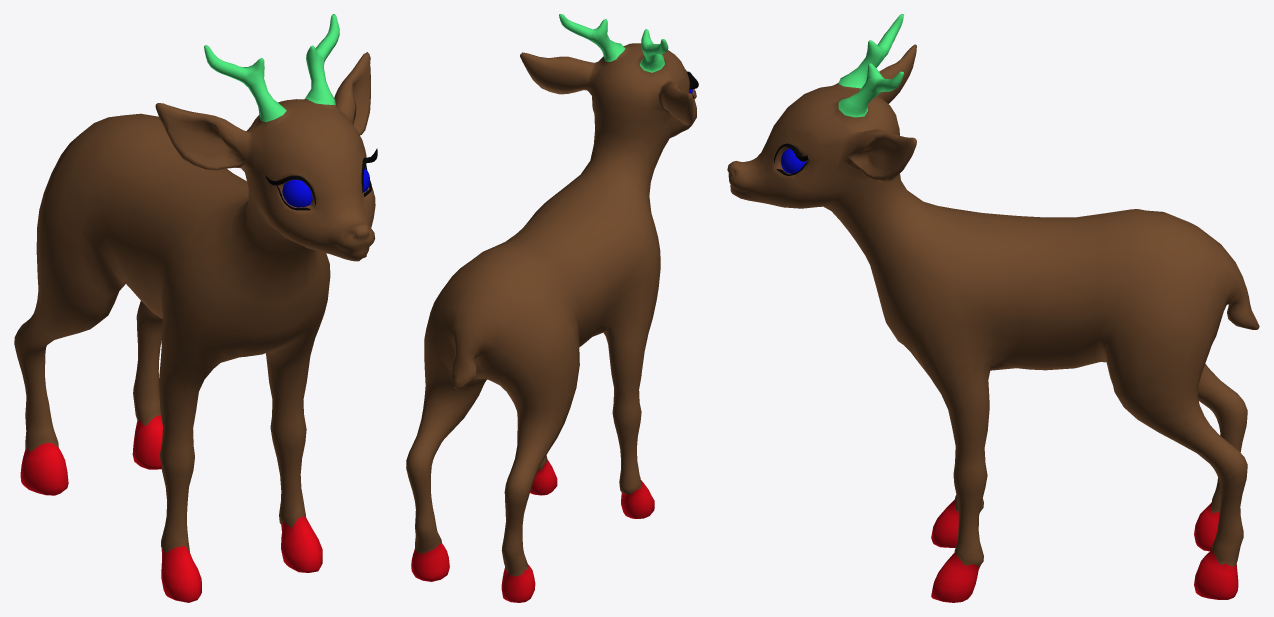
Rendered from Raindeer.fbx.
3 renders of one model, left to right at view 1: azimuth 30°, elevation 25°; view 2: azimuth 150°, elevation 25°; view 3: azimuth 270°, elevation 25°, orthographic. The views are drawn at different scales.
Parts seen in each view (by area): view 1: LP_Deer, LP_Eyeball, LP_Eyelash; view 2: LP_Deer; view 3: LP_Deer.
Boxes of the visible parts, box(x1,y1,x2,y2) form: LP_Deer: box(14, 14, 375, 602); LP_Eyeball: box(282, 168, 369, 207); LP_Eyelash: box(265, 148, 377, 210); LP_Deer: box(406, 14, 696, 602); LP_Deer: box(727, 14, 1259, 602).
Bounding box in the file's own units: 57.69 × 148 × 135.
